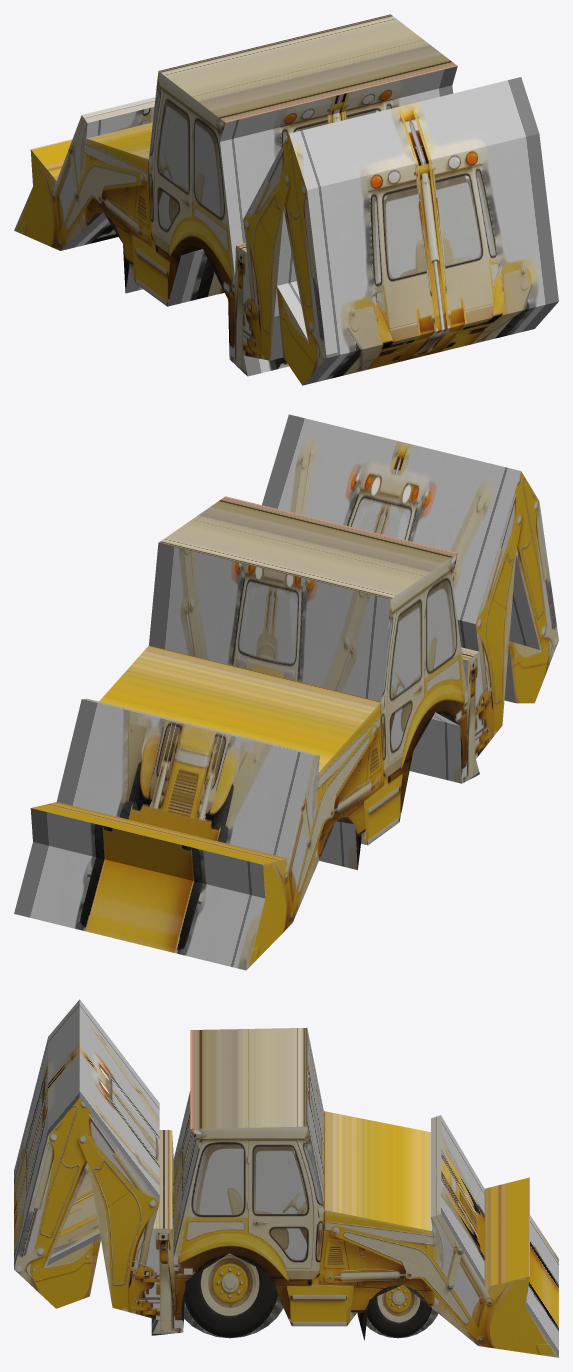
Rendered from backhoe_loader.glb.
3 renders of one model, top to bottom at view 1: azimuth 30°, elevation 25°; view 2: azimuth 150°, elevation 25°; view 3: azimuth 270°, elevation 25°, orthographic. The views are drawn at different scales.
Parts seen in each view (by area): view 1: backhoe_loader; view 2: backhoe_loader; view 3: backhoe_loader, wheel_BR, wheel_FR.
Boxes of the visible parts, bbox=[...] form: backhoe_loader: bbox=[14, 14, 558, 385]; backhoe_loader: bbox=[14, 414, 558, 970]; backhoe_loader: bbox=[14, 999, 558, 1357]; wheel_BR: bbox=[184, 1253, 283, 1338]; wheel_FR: bbox=[366, 1285, 438, 1338].
Size of the model in its own units: 3 by 3.78 by 6.99.
Materials: 3 (1 with a texture image).
